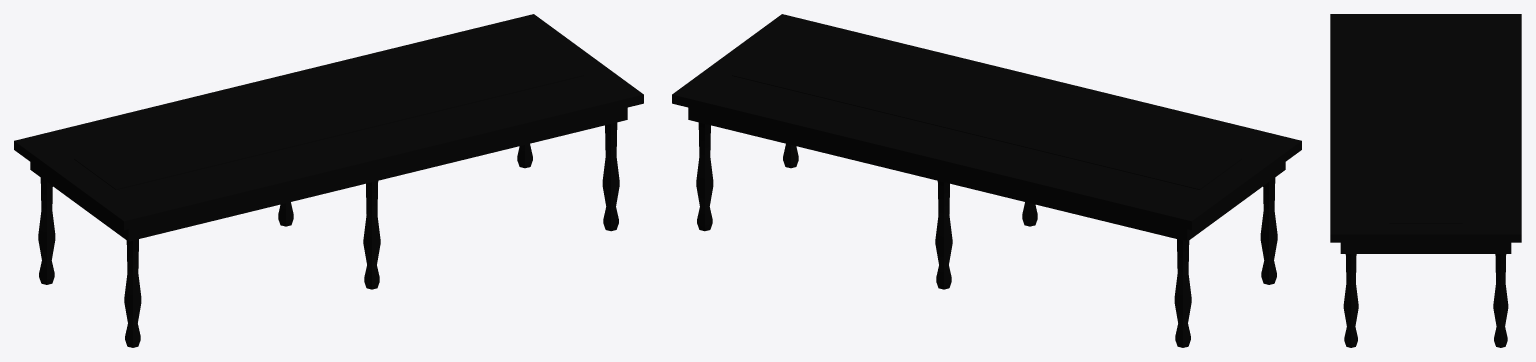
The model's file is SM_table_dining.fbx.
3 views of the same model, side by side, from view 1: azimuth 30°, elevation 25°; view 2: azimuth 150°, elevation 25°; view 3: azimuth 270°, elevation 25° (orthographic). The views are drawn at different scales.
Parts seen in each view (by area): view 1: table_dining; view 2: table_dining; view 3: table_dining.
Boxes of the visible parts, left/top/right/bottom form: table_dining: left=14, top=14, right=643, bottom=347; table_dining: left=672, top=14, right=1301, bottom=347; table_dining: left=1330, top=14, right=1521, bottom=347.
Size of the model in its own units: 3 by 0.764 by 1.1.
